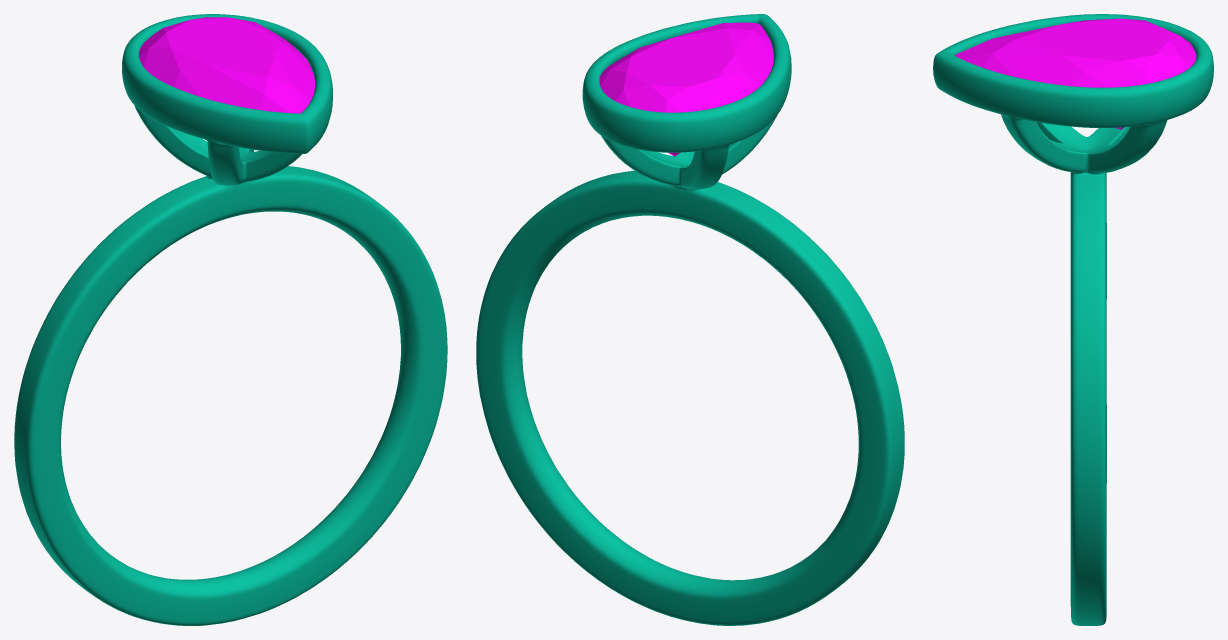
Rendered from BE1808_PE_200ct_RENDER.glb.
3 views of the same model, side by side, from view 1: azimuth 30°, elevation 25°; view 2: azimuth 150°, elevation 25°; view 3: azimuth 270°, elevation 25° (orthographic).
Visible parts, largest first — view 1: Metal 01, CS_Diamond_Pear; view 2: Metal 01, CS_Diamond_Pear; view 3: Metal 01, CS_Diamond_Pear.
Part boxes in pixels (x1,y1,x2,y2): Metal 01: [14, 14, 447, 625]; CS_Diamond_Pear: [139, 17, 314, 113]; Metal 01: [476, 14, 904, 625]; CS_Diamond_Pear: [599, 22, 773, 156]; Metal 01: [933, 14, 1213, 625]; CS_Diamond_Pear: [955, 18, 1196, 129].
Bounding box in the file's own units: 20.11 × 25.88 × 11.69.
